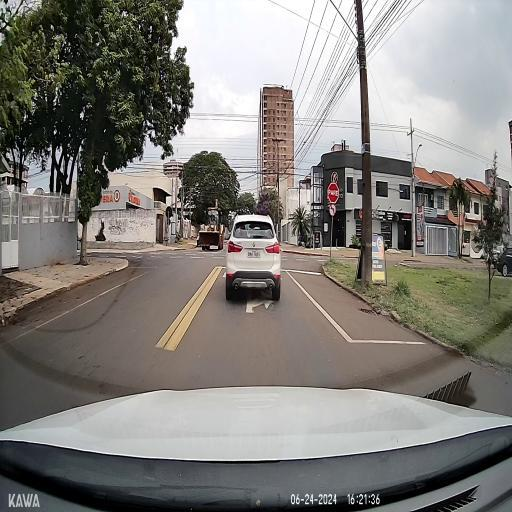R-1: (327, 182, 339, 204)
R-24a: (330, 204, 336, 216)
